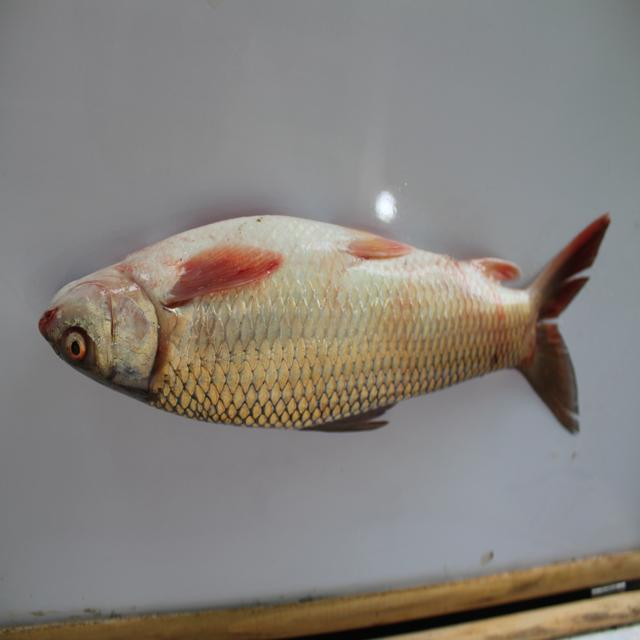Mori: (25, 194, 617, 491)
